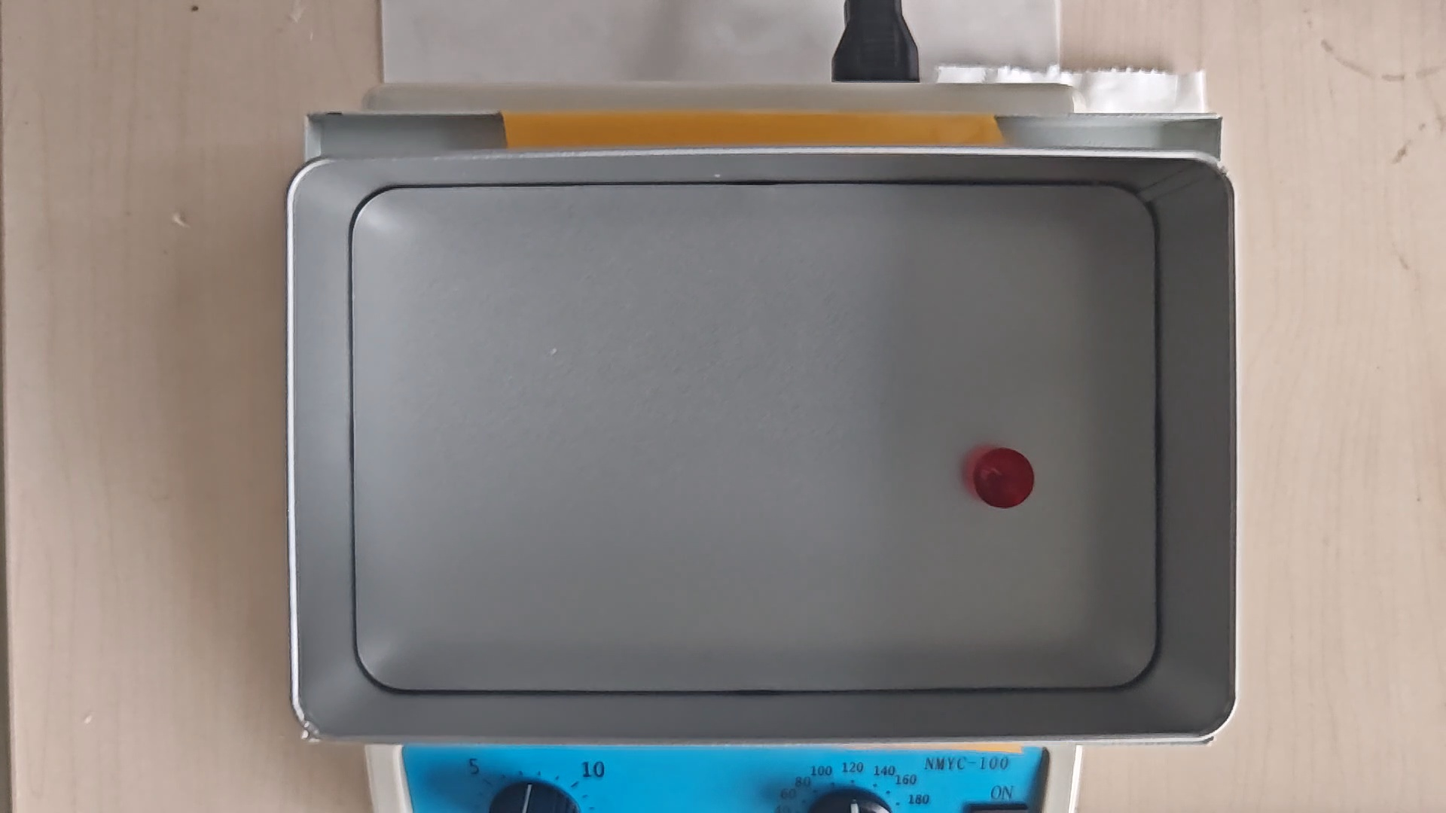ball: (972, 449, 1035, 510)
container: (350, 181, 1158, 692)
